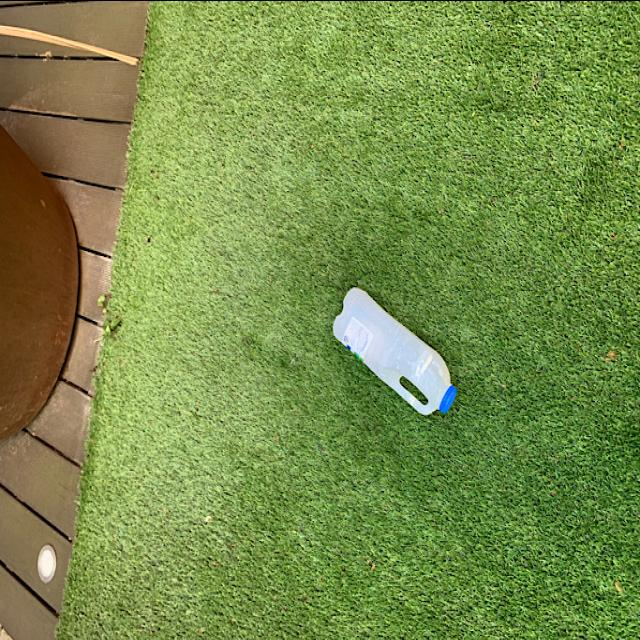litter: (331, 280, 458, 415)
